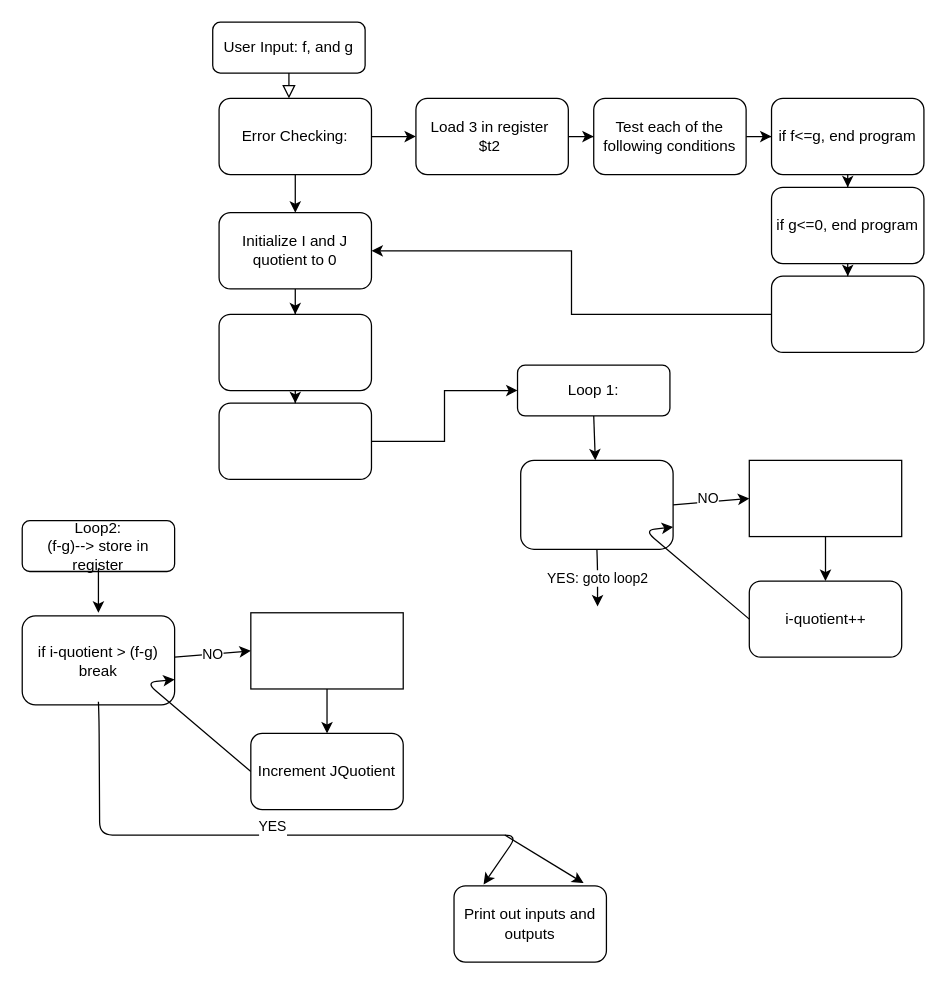
Some shapes in this 946 by 984 pixel diagram are drawn without their labels. The shapes that lost their labels are listed below. From the top down, each one's box as (x1, y1, x2, y2) in pixels, then its label:
(770, 275, 924, 352): if f<=3, end program
(218, 313, 371, 391): Initialize f and g static variables in other registers for loop implementation
(218, 402, 371, 479): f-=3
(519, 459, 673, 549): if g> f-dynamic break loop
(748, 459, 902, 537): g-=f-dynamic
(250, 612, 403, 689): (f-g)= (f-g) - Iquotient
